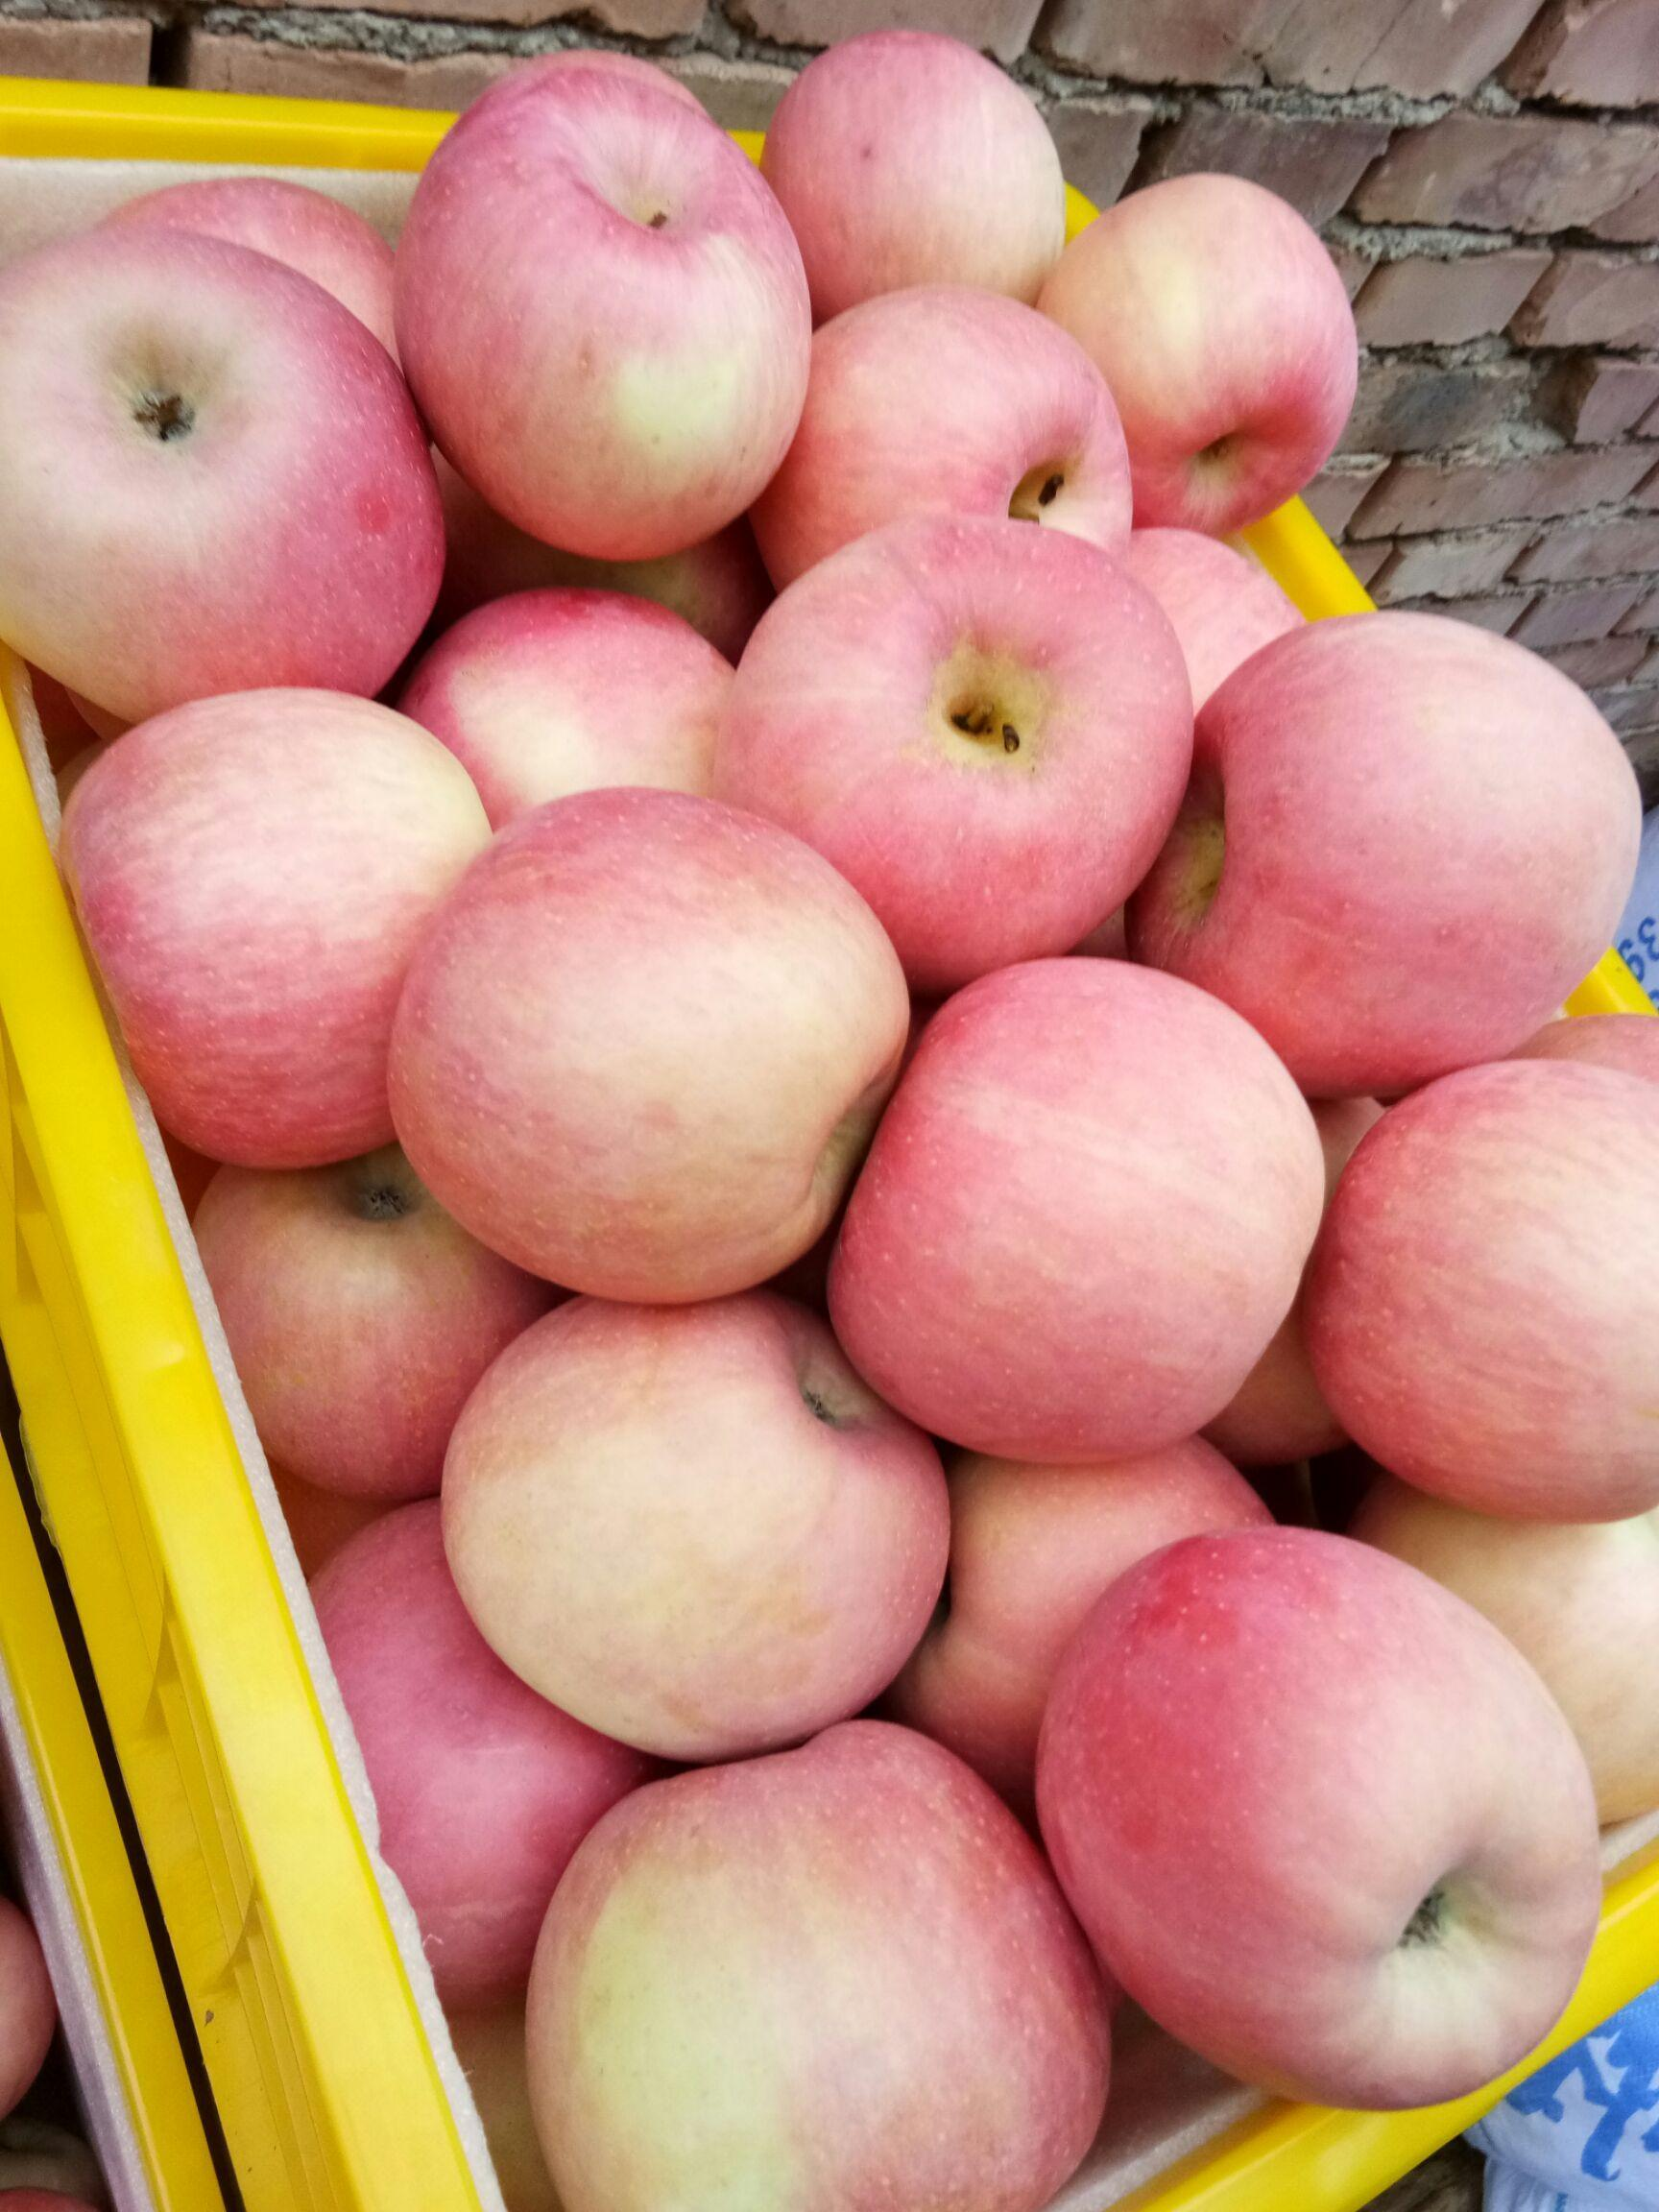apple: (1023, 1508, 1603, 2160), (518, 1721, 1126, 2202), (392, 782, 899, 1292), (702, 482, 1209, 991), (821, 958, 1326, 1467), (1143, 604, 1645, 1111), (448, 1261, 950, 1764), (2, 179, 448, 732), (49, 683, 484, 1170), (403, 59, 824, 557), (295, 1496, 647, 2013), (1303, 1042, 1659, 1529), (188, 1129, 544, 1507), (1042, 171, 1364, 573), (756, 277, 1138, 577), (758, 40, 1063, 303)
